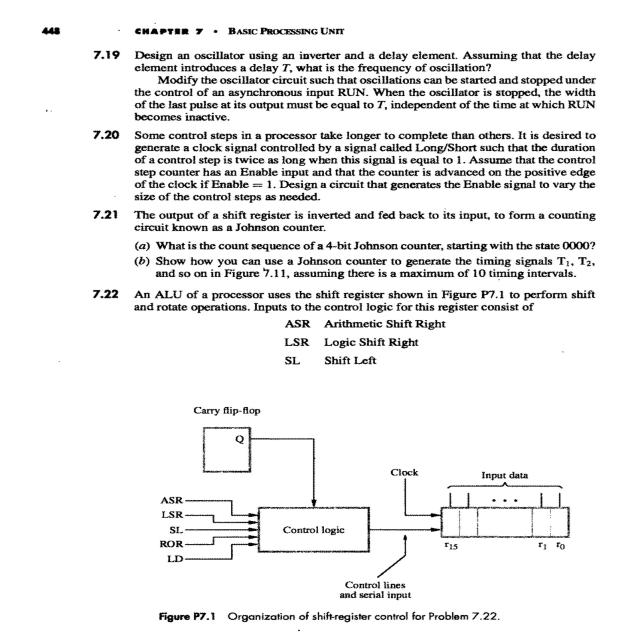diagram: (38, 387, 614, 640), (639, 103, 640, 163)
